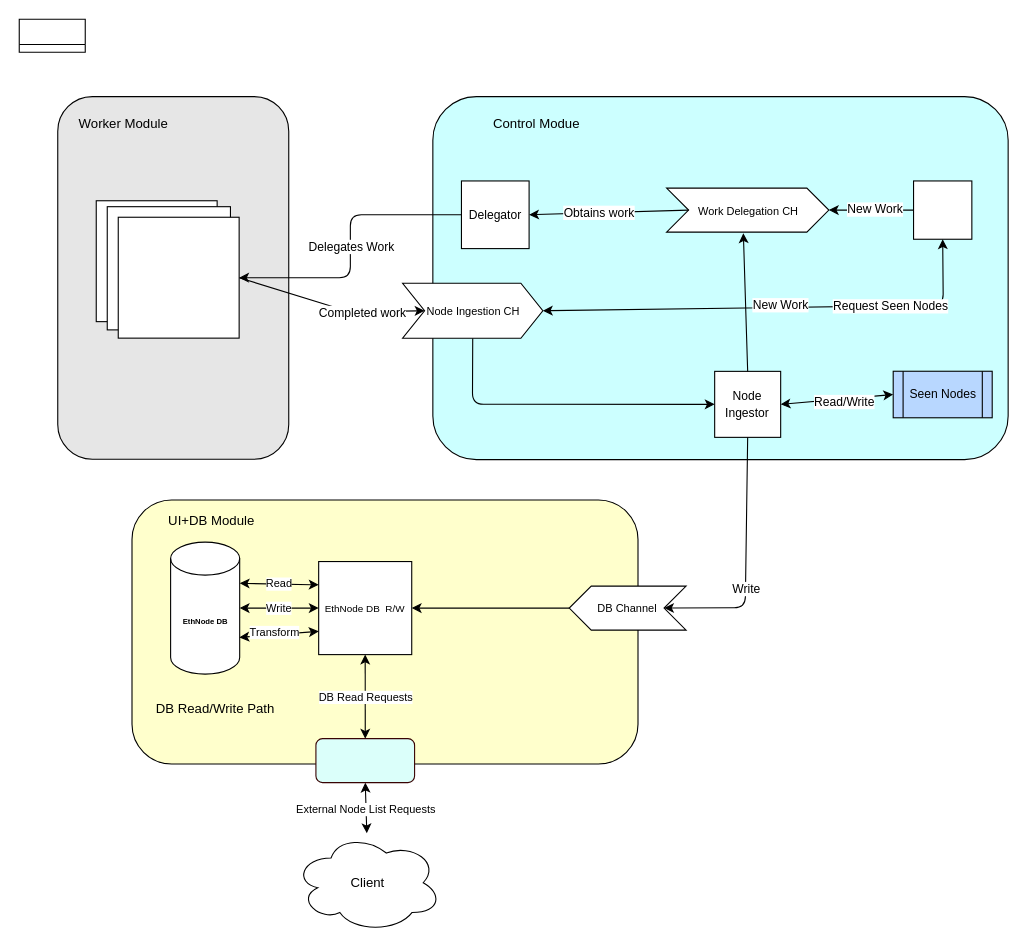
This 1027x952 diagram has some shape labels left out. The box of each missing label's shape, as (x1, y1, x2, y2) in pixels:
External DB API: (315, 738, 415, 783)
Freshness tracker: (912, 180, 972, 239)
Key: (18, 18, 85, 52)
Workers: (117, 216, 239, 338)
